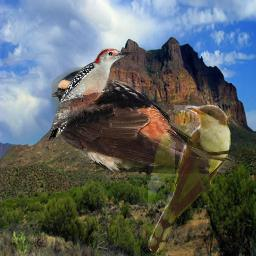Cuckoo: (148, 105, 231, 255)
Swallow: (51, 67, 235, 177)
Woodpecker: (48, 48, 134, 141)
